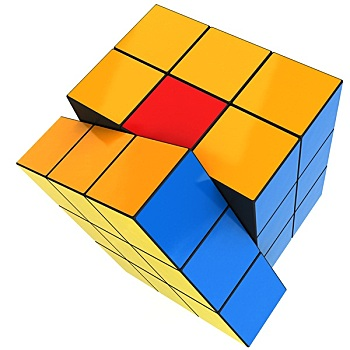cube: (12, 5, 344, 349)
